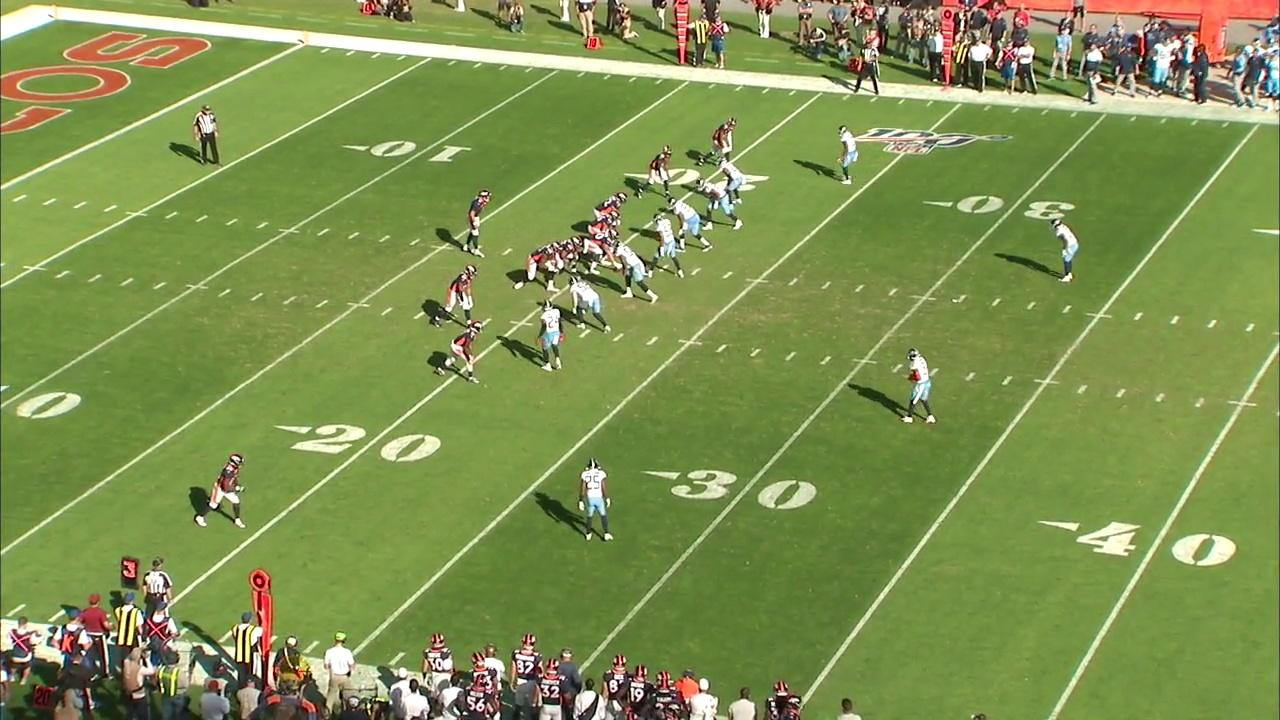defense: (573, 453, 616, 544), (901, 346, 937, 425), (566, 274, 613, 334), (617, 242, 659, 302), (670, 197, 715, 251), (697, 178, 743, 229), (652, 215, 687, 278), (538, 297, 565, 374), (1051, 218, 1082, 282), (836, 124, 858, 184), (721, 157, 745, 206)
oline: (510, 238, 565, 296), (583, 232, 619, 279), (591, 190, 629, 222), (556, 233, 583, 274), (584, 207, 622, 236)
qb: (462, 189, 490, 262)
ref: (191, 102, 224, 167), (141, 553, 174, 609), (850, 39, 882, 92)
skill: (196, 449, 249, 527), (434, 316, 486, 383), (429, 262, 477, 330), (696, 118, 737, 169), (638, 143, 675, 199)
